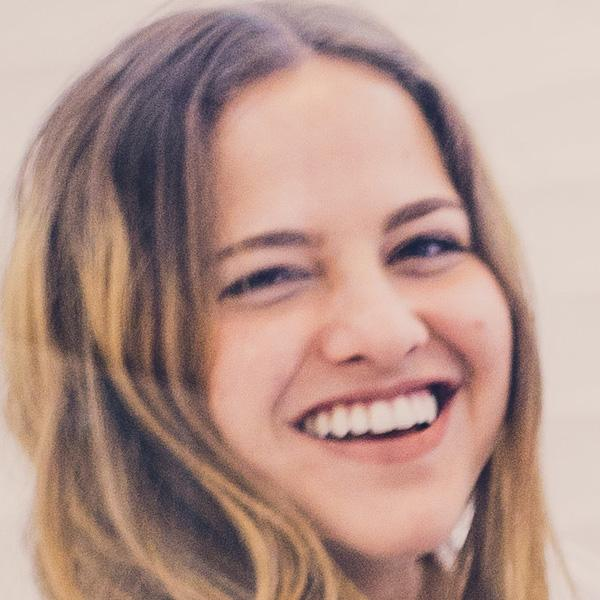Eyes: (210, 242, 325, 320), (370, 216, 473, 284)
